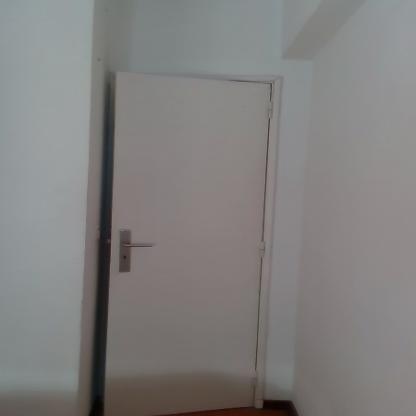door: (116, 72, 272, 416)
hinged: (260, 240, 268, 259), (266, 102, 273, 120), (252, 369, 258, 387)
lever: (124, 244, 154, 249)
